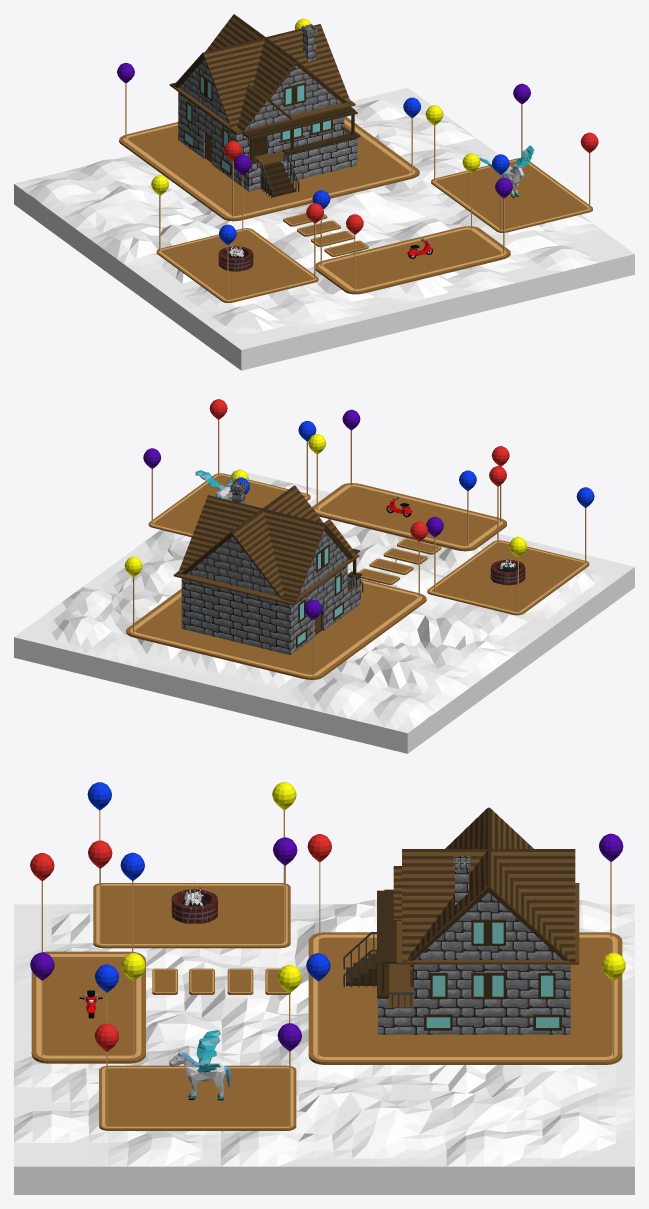
The picture shows the model from 3 angles, top to bottom: view 1: azimuth 30°, elevation 25°; view 2: azimuth 150°, elevation 25°; view 3: azimuth 270°, elevation 25°; orthographic projection. The views are drawn at different scales.
Parts seen in each view (by area): view 1: Cube.013, Cube.586, OBJRANDOM_CAMPFIRE, ANIMAL_PEGASO; view 2: Cube.013, Cube.586, OBJRANDOM_CAMPFIRE; view 3: Cube.013, Cube.586, ANIMAL_PEGASO, OBJRANDOM_CAMPFIRE.
Part boxes in pixels (bbox=[...]): Cube.013: bbox=[14, 18, 634, 370]; Cube.586: bbox=[169, 14, 360, 198]; OBJRANDOM_CAMPFIRE: bbox=[218, 244, 253, 271]; ANIMAL_PEGASO: bbox=[479, 145, 534, 197]; Cube.013: bbox=[14, 399, 634, 753]; Cube.586: bbox=[173, 481, 363, 654]; OBJRANDOM_CAMPFIRE: bbox=[490, 559, 525, 585]; Cube.013: bbox=[14, 782, 634, 1194]; Cube.586: bbox=[343, 807, 579, 1034]; ANIMAL_PEGASO: bbox=[169, 1030, 231, 1100]; OBJRANDOM_CAMPFIRE: bbox=[171, 887, 217, 923].
Size of the model in its own units: 4000 by 1798 by 4000.
Materials: 32 (2 with a texture image).
